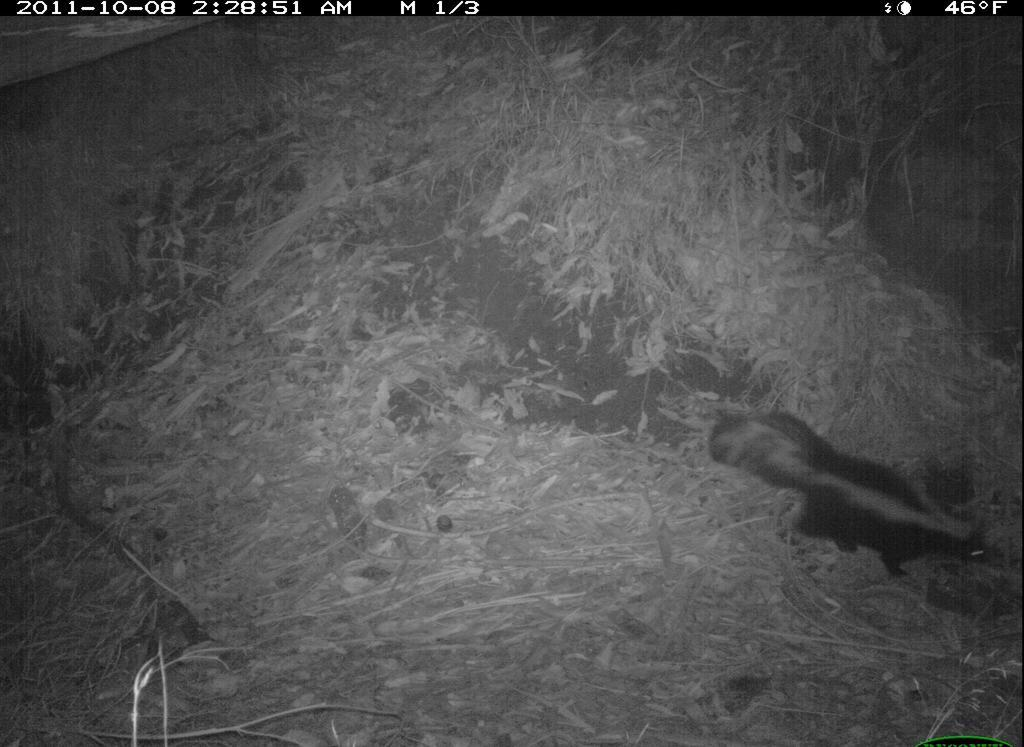skunk: (701, 400, 995, 593)
